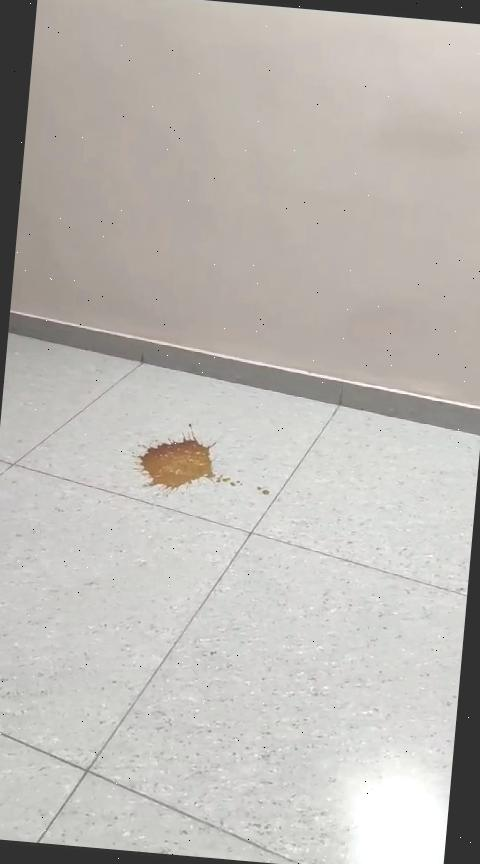dirty_floor: (125, 425, 276, 510)
